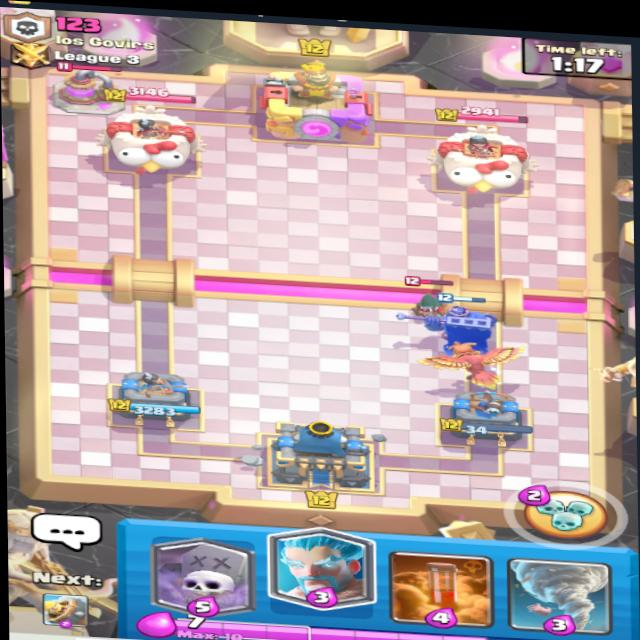bandit: (389, 275, 455, 324)
elixir-collector: (43, 55, 142, 120)
